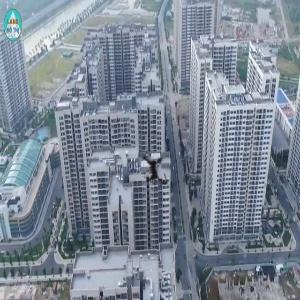drone: (117, 131, 199, 213)
